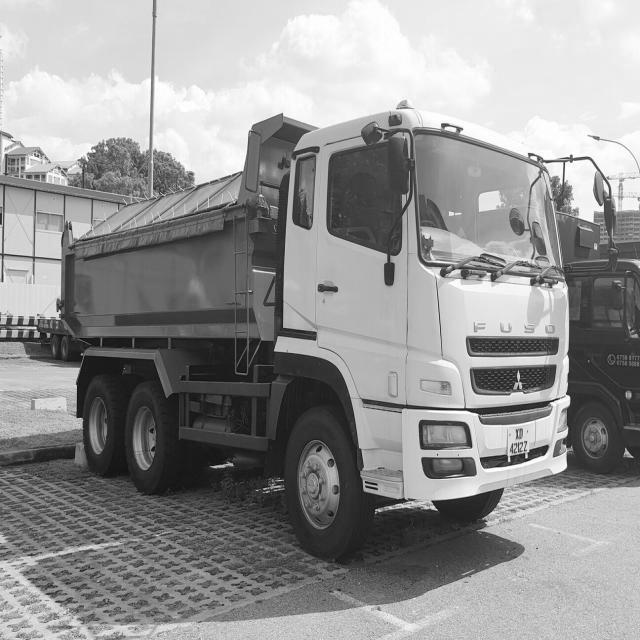truck: (250, 85, 630, 544)
